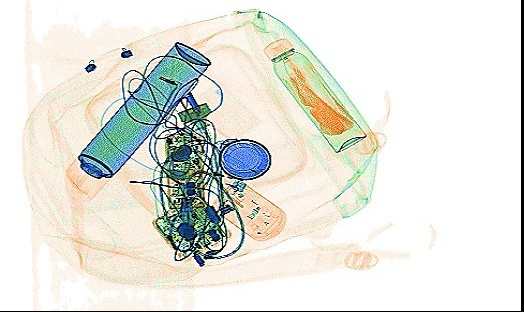lighter: (194, 158, 249, 194)
pressure: (63, 39, 213, 199), (261, 34, 367, 154)
